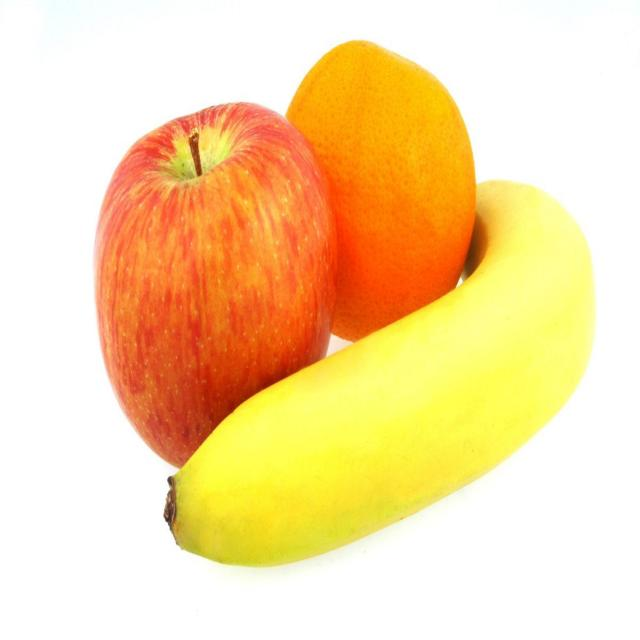apple: (93, 105, 336, 473)
banana: (166, 181, 598, 564)
orange: (277, 44, 477, 351)
